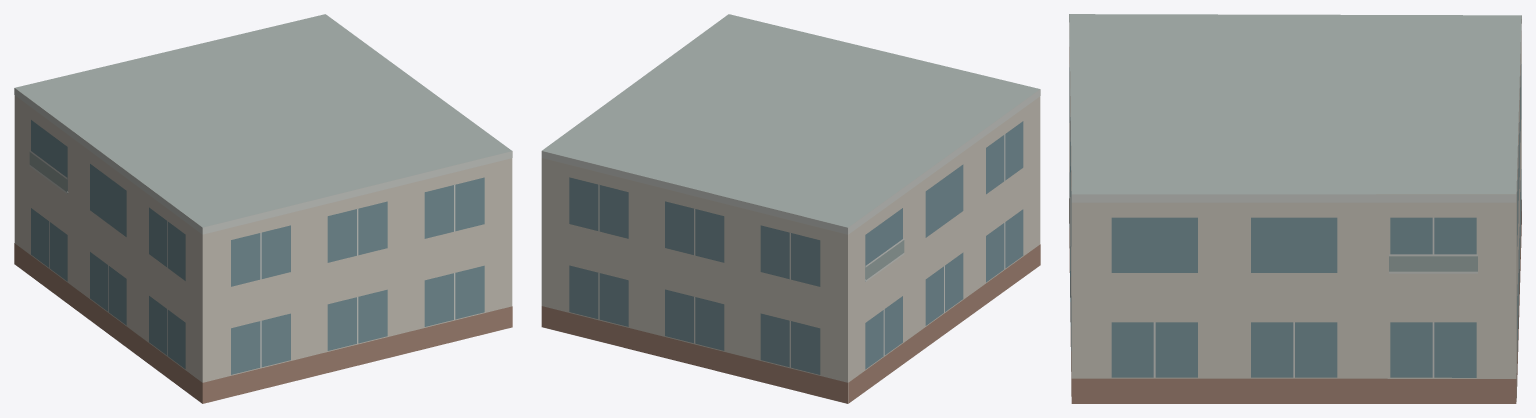
File: survey-upis-32875500.glb
3 renders of one model, left to right at view 1: azimuth 30°, elevation 25°; view 2: azimuth 150°, elevation 25°; view 3: azimuth 270°, elevation 25°, orthographic. The views are drawn at different scales.
Parts seen in each view (by area): view 1: survey-upis-32875500.tmp; view 2: survey-upis-32875500.tmp; view 3: survey-upis-32875500.tmp.
Part boxes in pixels (x1=…): survey-upis-32875500.tmp: x1=14, y1=14, x2=512, y2=403; survey-upis-32875500.tmp: x1=541, y1=14, x2=1040, y2=403; survey-upis-32875500.tmp: x1=1069, y1=14, x2=1521, y2=403.
Size of the model in its own units: 11.31 by 6.1 by 11.95.
